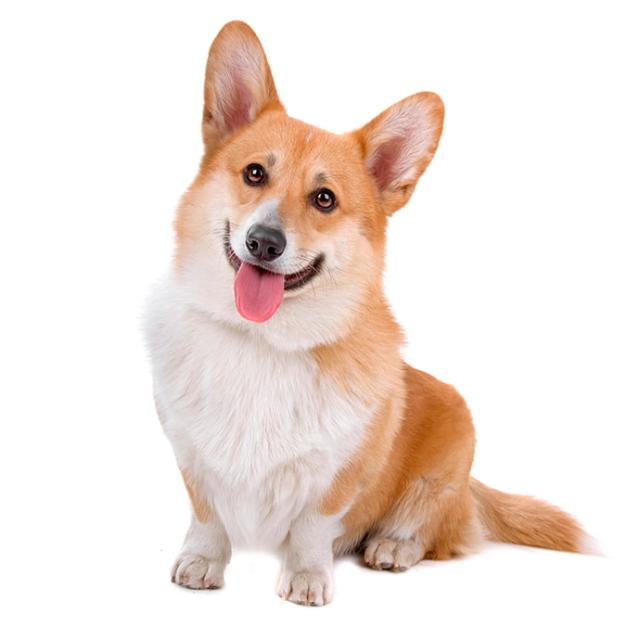CORGI: (127, 18, 608, 616)
